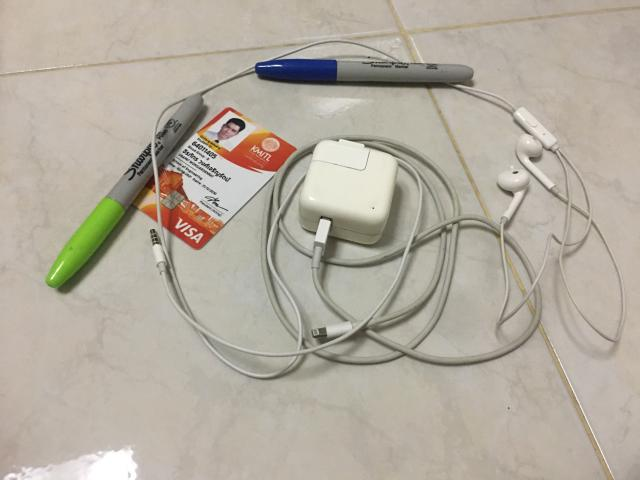Pen: (45, 93, 204, 288), (255, 59, 474, 82)
wire: (261, 136, 541, 365), (496, 134, 626, 342)
